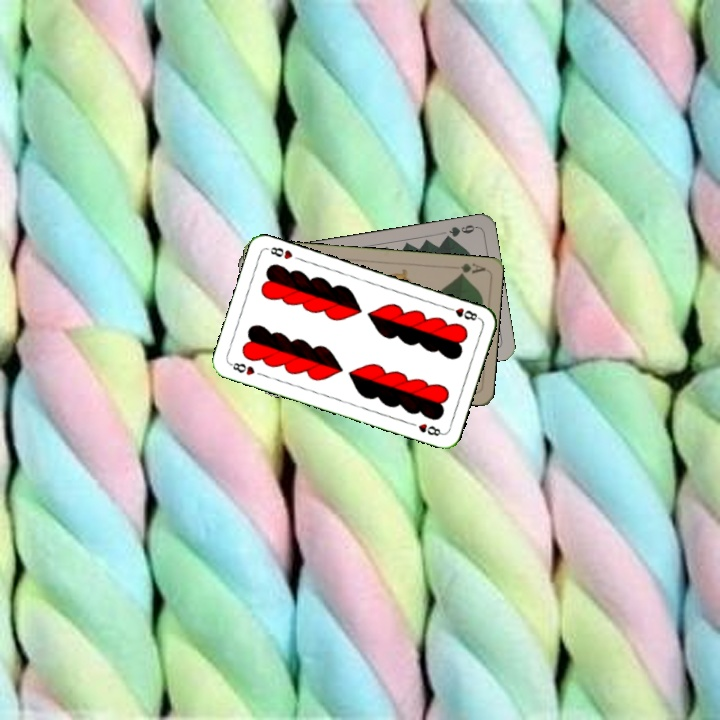G9: (440, 221, 479, 243)
GA: (454, 259, 487, 278)
H8: (443, 303, 482, 323), (226, 358, 257, 378)
